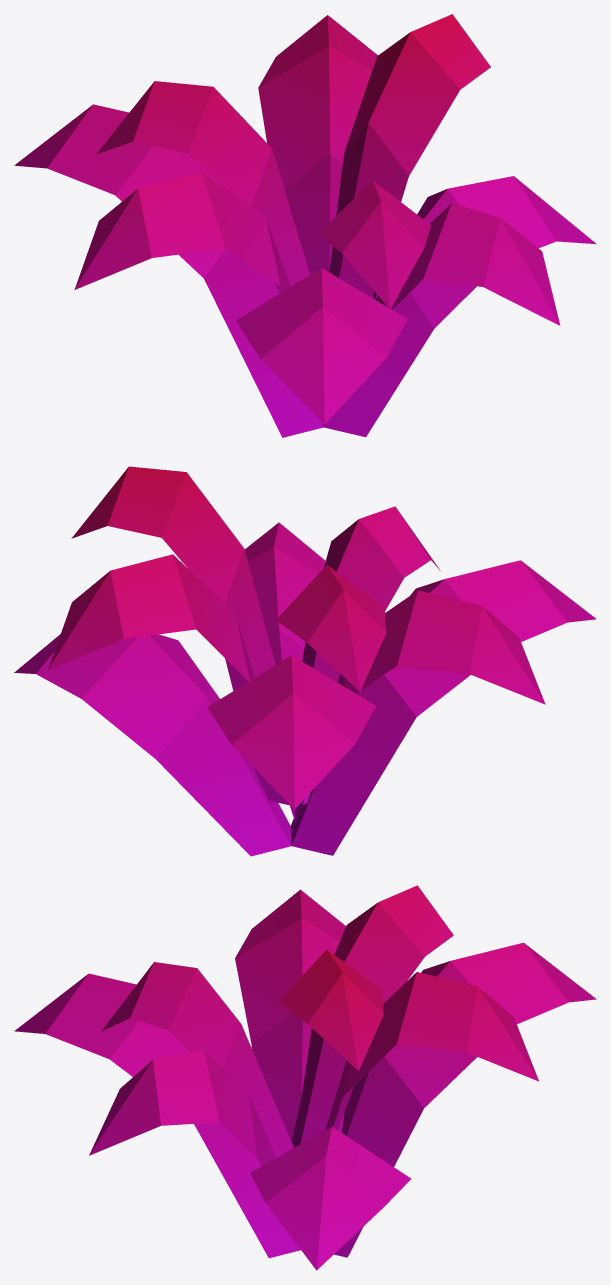
The model's file is SM_Plant_Fern_03.gltf.
The picture shows the model from 3 angles, top to bottom: view 1: azimuth 30°, elevation 25°; view 2: azimuth 150°, elevation 25°; view 3: azimuth 270°, elevation 25°; orthographic projection. The views are drawn at different scales.
Parts seen in each view (by area): view 1: SM_Plant_Fern_03; view 2: SM_Plant_Fern_03; view 3: SM_Plant_Fern_03.
Part boxes in pixels (bbox=[...]): SM_Plant_Fern_03: bbox=[14, 14, 596, 437]; SM_Plant_Fern_03: bbox=[14, 466, 596, 856]; SM_Plant_Fern_03: bbox=[14, 885, 596, 1270].
Size of the model in its own units: 0.6733 by 0.4409 by 0.6779.
